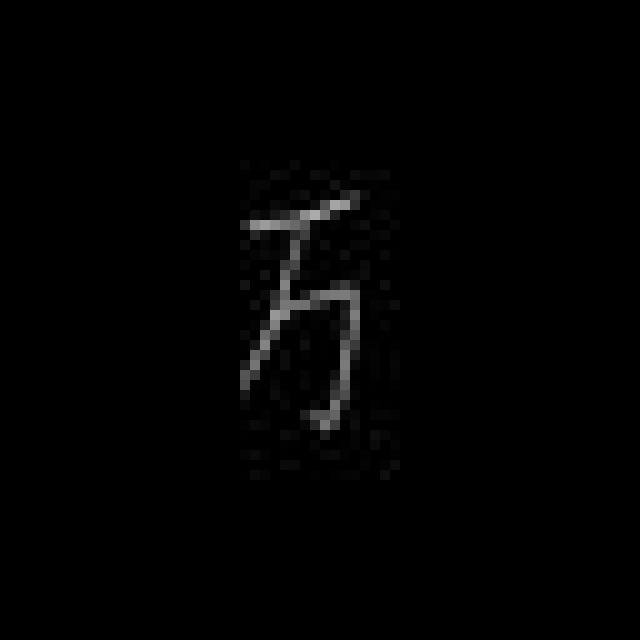10000 -a ten thousand-: (216, 178, 379, 445)
